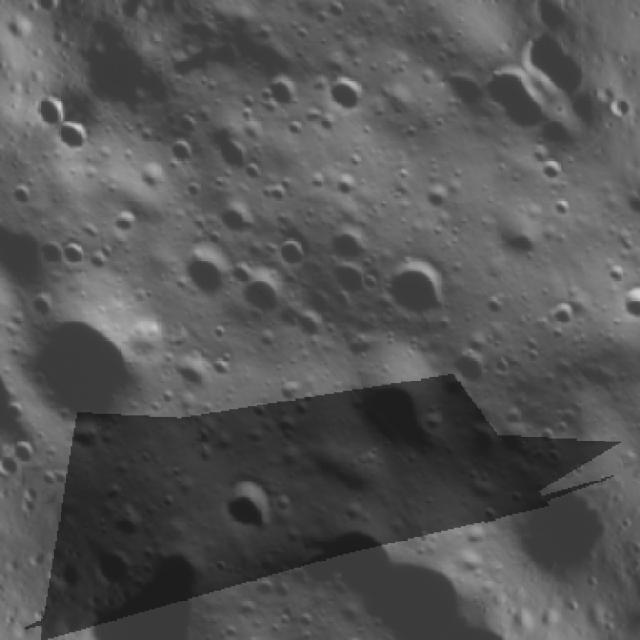crater: (0, 283, 163, 457), (334, 350, 464, 481), (467, 51, 562, 149), (371, 243, 466, 339), (206, 460, 294, 549), (167, 227, 251, 313), (200, 112, 274, 188), (306, 61, 379, 133), (312, 208, 381, 277), (233, 263, 302, 332), (253, 61, 319, 128), (313, 246, 379, 312), (206, 188, 272, 254), (441, 333, 504, 398), (262, 215, 324, 279), (48, 105, 110, 167), (106, 498, 156, 550), (416, 173, 466, 224), (603, 275, 640, 340), (158, 129, 205, 177), (1, 170, 48, 218), (2, 426, 49, 474), (54, 231, 101, 278), (542, 289, 588, 337), (533, 150, 578, 195), (106, 202, 151, 247), (29, 233, 69, 273), (338, 629, 376, 640), (289, 635, 323, 640)
